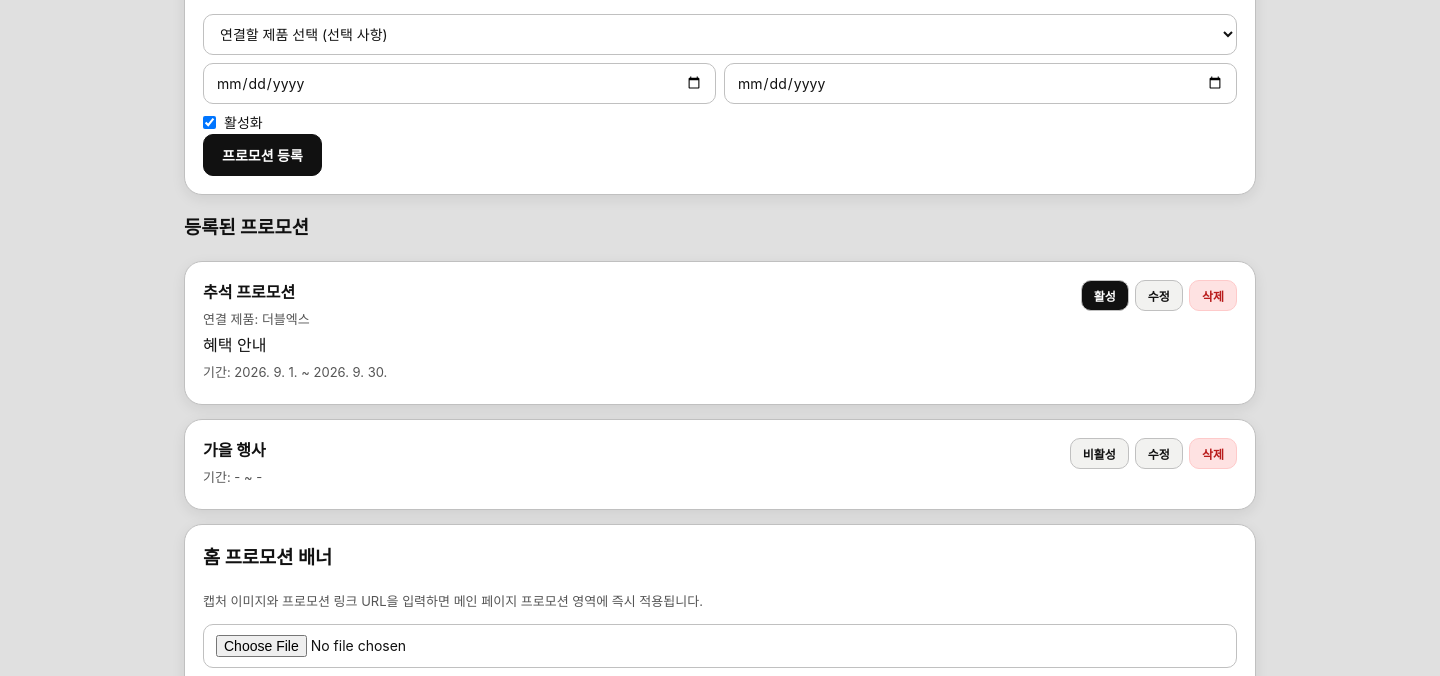
Test: Admin 프로모션 관리 › 기존 프로모션을 수정한다
(page scrolled)
Step 1. Click the button "수정" in the row of "추석 프로모션" → [1159, 296], box [1135,280,1183,311]
(page scrolled)
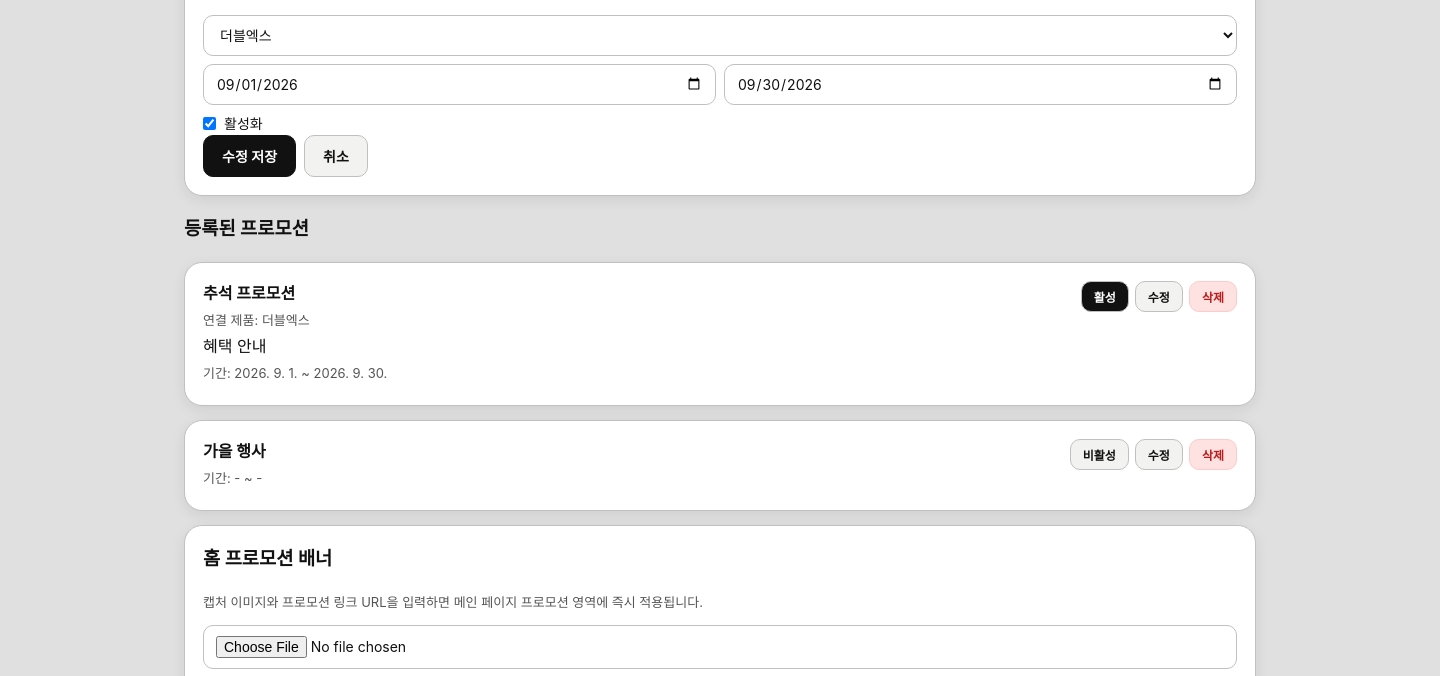
Result: the date field named "시작일" holds "2026-09-01" at [203,64,716,105]
Result: the dropdown shows "더블엑스" at [203,15,1237,56]
Step 2. Click the button "수정 저장" → [250, 156], box [203,135,296,177]
(page scrolled)
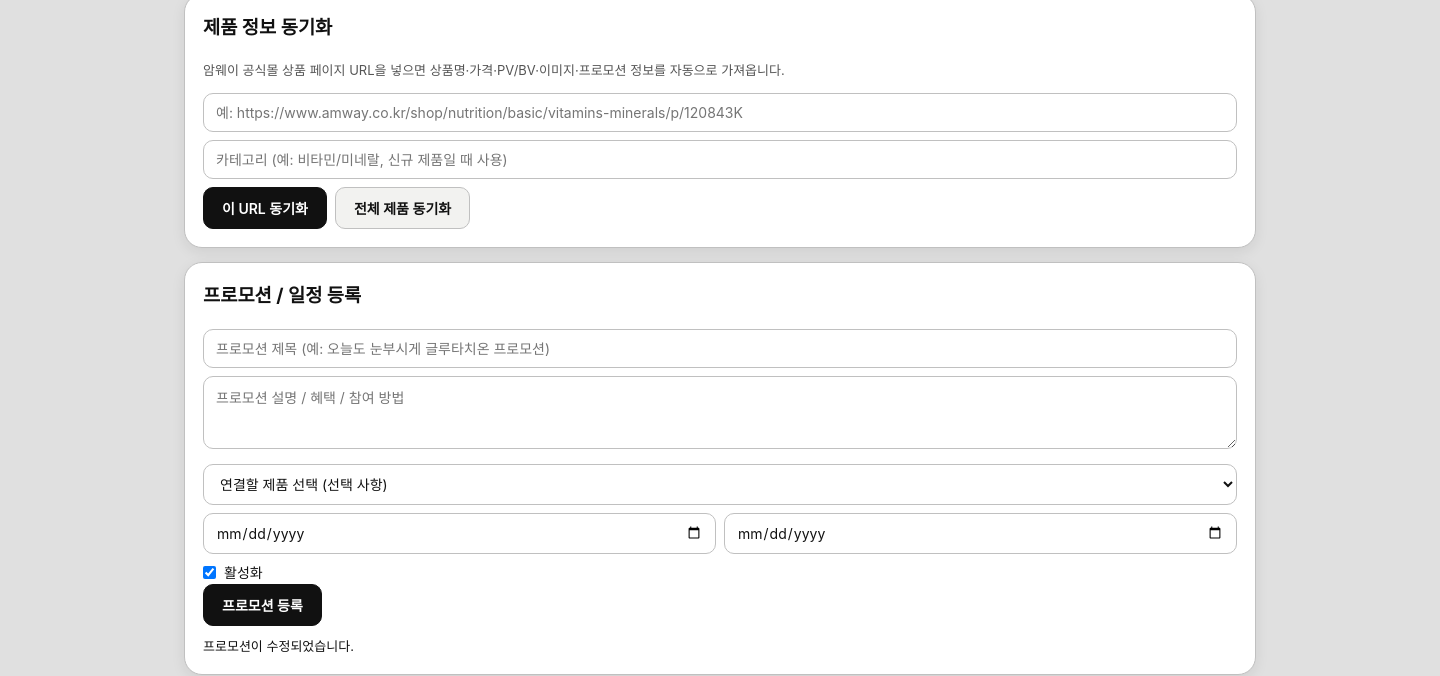
Result: the text "프로모션이 수정되었습니다." is shown at [203,638,354,654]
Result: the heading "프로모션 / 일정 등록" is shown at [203,284,361,308]
